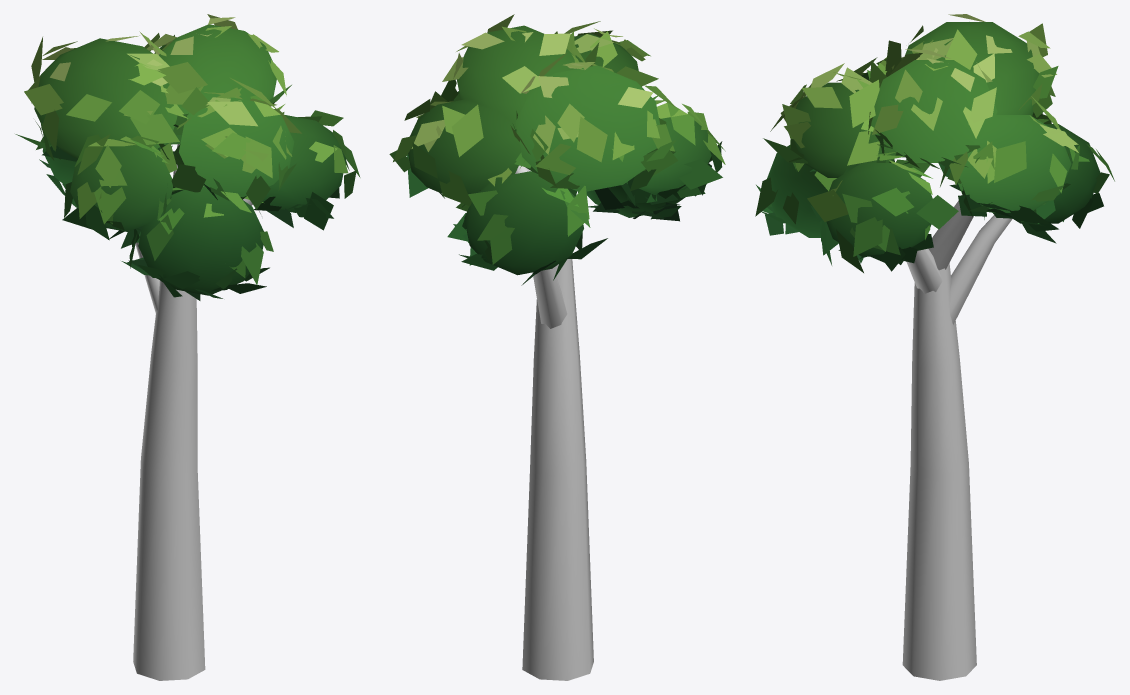
Rendered from t_round0.fbx.
The picture shows the model from 3 angles, left to right: view 1: azimuth 30°, elevation 25°; view 2: azimuth 150°, elevation 25°; view 3: azimuth 270°, elevation 25°; orthographic projection.
Visible parts, largest first — view 1: model; view 2: model; view 3: model.
Boxes of the visible parts, x1=… form: model: x1=15, y1=14, x2=360, y2=680; model: x1=389, y1=14, x2=725, y2=680; model: x1=755, y1=14, x2=1114, y2=680.
Size of the model in its own units: 0.6141 by 1.3 by 0.6795.
